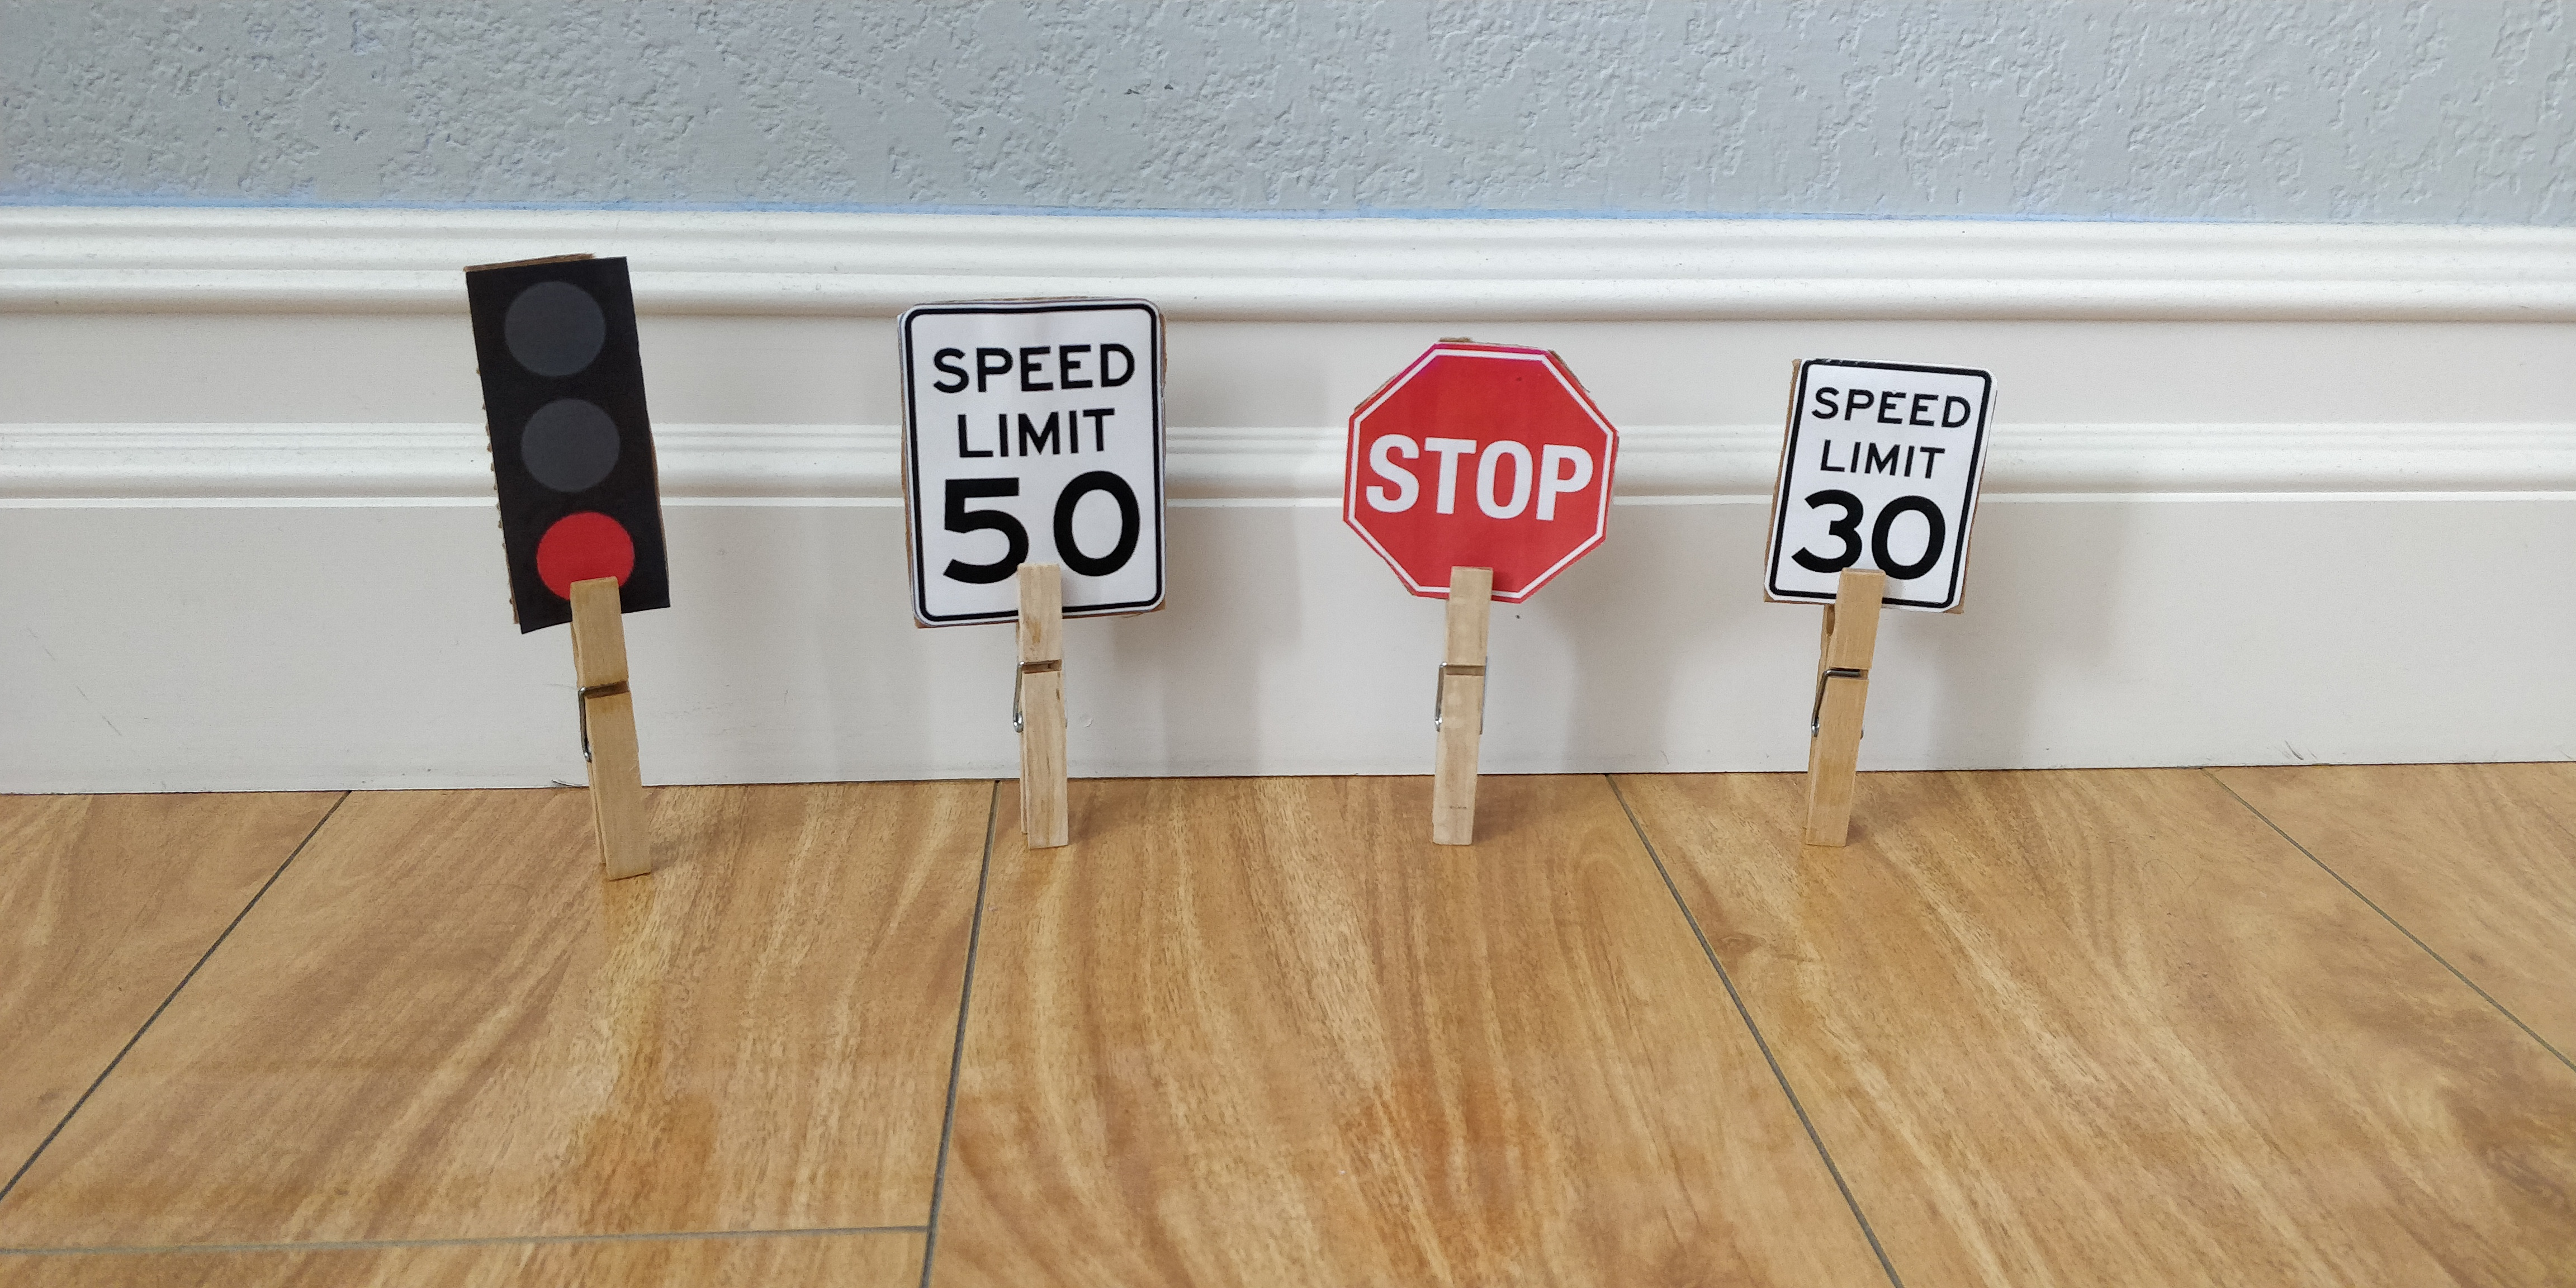Speed Limit 30: (1761, 353, 1991, 610)
Speed Limit 50: (895, 306, 1166, 619)
Stop Sign: (1341, 342, 1620, 601)
red light: (457, 260, 674, 631)
